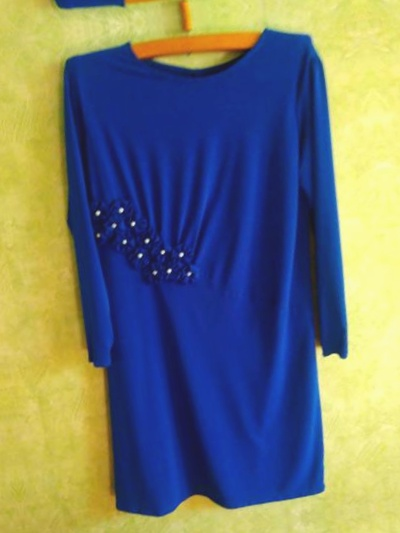Dress: (10, 8, 396, 533), (0, 0, 322, 28), (84, 517, 400, 533), (395, 0, 400, 483)
